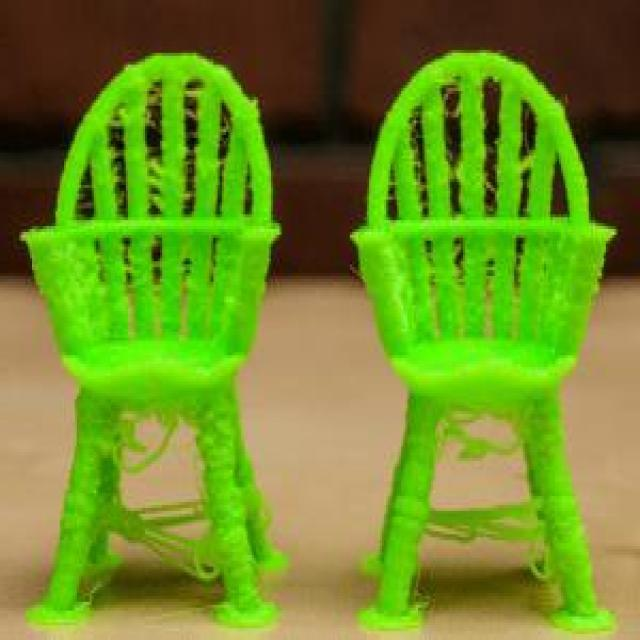Stringing: (436, 432, 538, 602), (125, 439, 207, 599)
